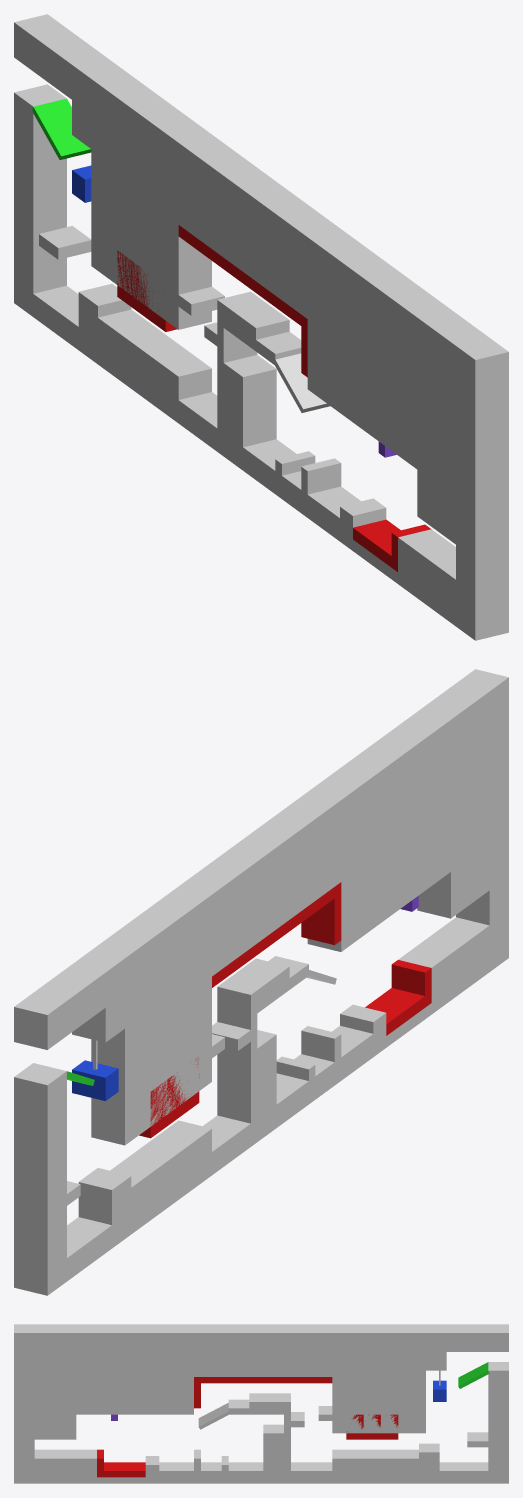
3 renders of one model, top to bottom at view 1: azimuth 30°, elevation 25°; view 2: azimuth 150°, elevation 25°; view 3: azimuth 270°, elevation 25°, orthographic. The views are drawn at different scales.
Parts seen in each view (by area): view 1: Cube.072, Cube.070, Cube.069, Cube.071, Cube.061, Cube.062, Cube.067, Cube.074, Cube.056, Cube.083, Cube.058, Cube.082 (+13 smaller); view 2: Cube.072, Cube.070, Cube.071, Cube.069, Cube.062, Cube.061, Cube.067, Cube.083, Cube.056, Cube.074, Cube.058, Cube.082 (+13 smaller); view 3: Cube.070, Cube.072, Cube.071, Cube.069, Cube.061, Cube.067, Cube.062, Cube.074, Cube.083, Cube.056, Cube.082, Cube.058 (+18 smaller).
Part boxes in pixels (<box>): Cube.072: <box>91,71,211,329</box>; Cube.070: <box>307,229,450,469</box>; Cube.069: <box>417,309,508,558</box>; Cube.071: <box>178,134,340,318</box>; Cube.061: <box>33,285,360,541</box>; Cube.062: <box>14,84,66,316</box>; Cube.067: <box>398,529,508,640</box>; Cube.074: <box>98,309,211,399</box>; Cube.056: <box>217,355,276,447</box>; Cube.083: <box>14,14,104,99</box>; Cube.058: <box>217,291,289,351</box>; Cube.082: <box>72,56,124,148</box>; Cube.072: <box>91,886,211,1145</box>; Cube.070: <box>307,711,450,951</box>; Cube.071: <box>179,792,341,976</box>; Cube.069: <box>417,669,508,918</box>; Cube.062: <box>14,1063,66,1295</box>; Cube.061: <box>67,1026,373,1281</box>; Cube.067: <box>398,911,508,1014</box>; Cube.083: <box>14,964,105,1049</box>; Cube.056: <box>217,1030,276,1123</box>; Cube.074: <box>110,1120,211,1210</box>; Cube.058: <box>217,958,289,1018</box>; Cube.082: <box>72,950,124,1042</box>; Cube.070: <box>76,1324,193,1414</box>; Cube.072: <box>332,1324,425,1433</box>; Cube.071: <box>194,1324,332,1376</box>; Cube.069: <box>14,1324,76,1439</box>; Cube.061: <box>159,1462,488,1483</box>; Cube.067: <box>14,1449,96,1483</box>; Cube.062: <box>488,1362,508,1483</box>; Cube.074: <box>332,1449,418,1470</box>; Cube.083: <box>446,1324,508,1351</box>; Cube.056: <box>263,1424,290,1470</box>; Cube.082: <box>426,1324,446,1370</box>; Cube.058: <box>249,1393,290,1414</box>.
Size of the model in its own units: 350 by 2400 by 7150.
